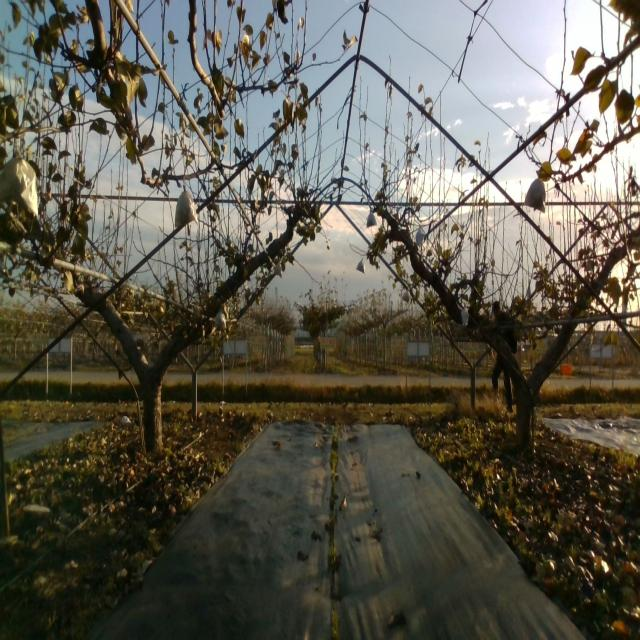pearbags: (0, 147, 39, 217), (173, 182, 198, 228), (524, 177, 546, 213), (213, 312, 228, 334), (415, 226, 426, 248), (366, 208, 377, 228)
